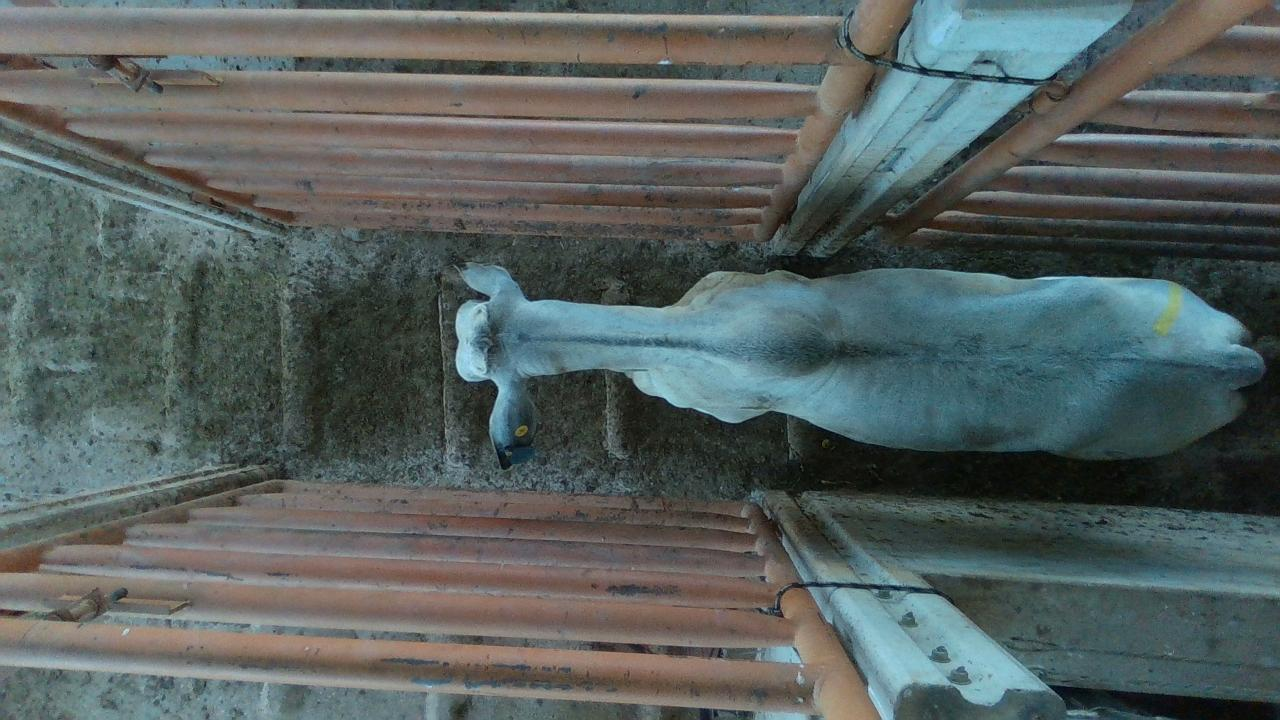cattle: (451, 260, 1266, 468)
